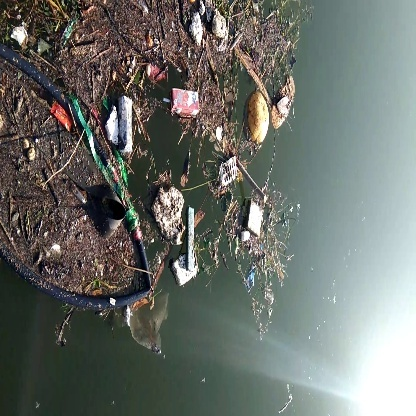ball: (241, 88, 274, 145)
milk-box: (164, 82, 206, 123)
